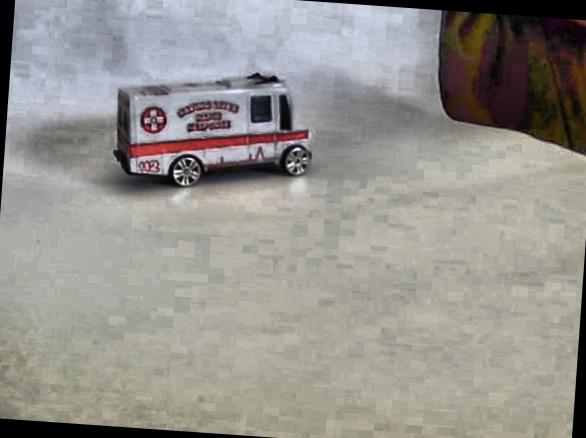ambulance: (109, 60, 316, 196)
